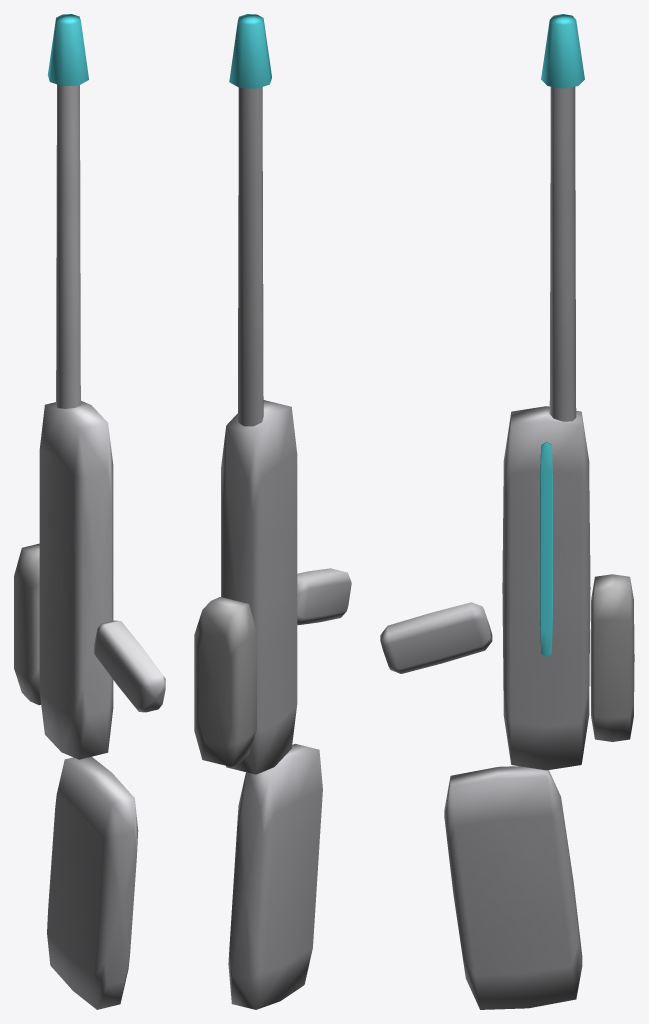
The model's file is fusil-laser.glb.
The picture shows the model from 3 angles, left to right: view 1: azimuth 30°, elevation 25°; view 2: azimuth 150°, elevation 25°; view 3: azimuth 270°, elevation 25°; orthographic projection. The views are drawn at different scales.
Visible parts, largest first — view 1: fusil-laser; view 2: fusil-laser; view 3: fusil-laser.
Boxes of the visible parts, x1,y1,x2,y2 form: fusil-laser: (14,14,165,1009); fusil-laser: (194,14,351,1009); fusil-laser: (380,14,634,1009).
Bounding box in the file's own units: 0.05 × 0.9868 × 0.2308.
Materials: 1 (1 with a texture image).
